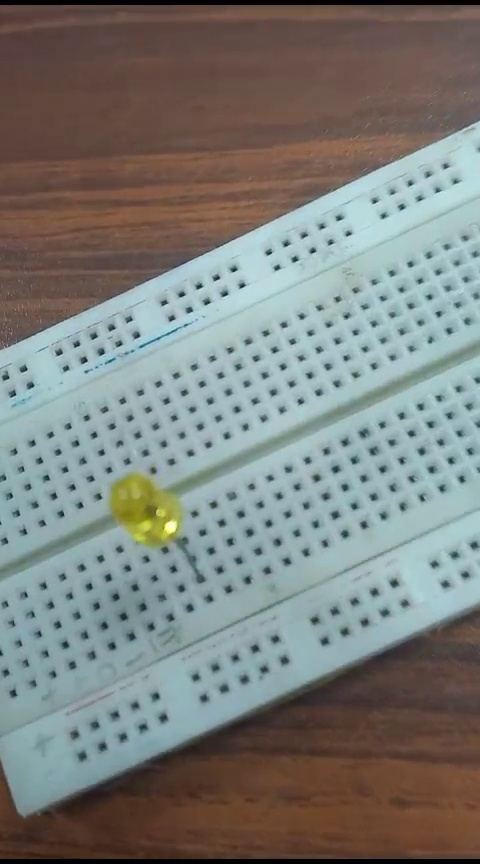LED: (92, 469, 200, 600)
